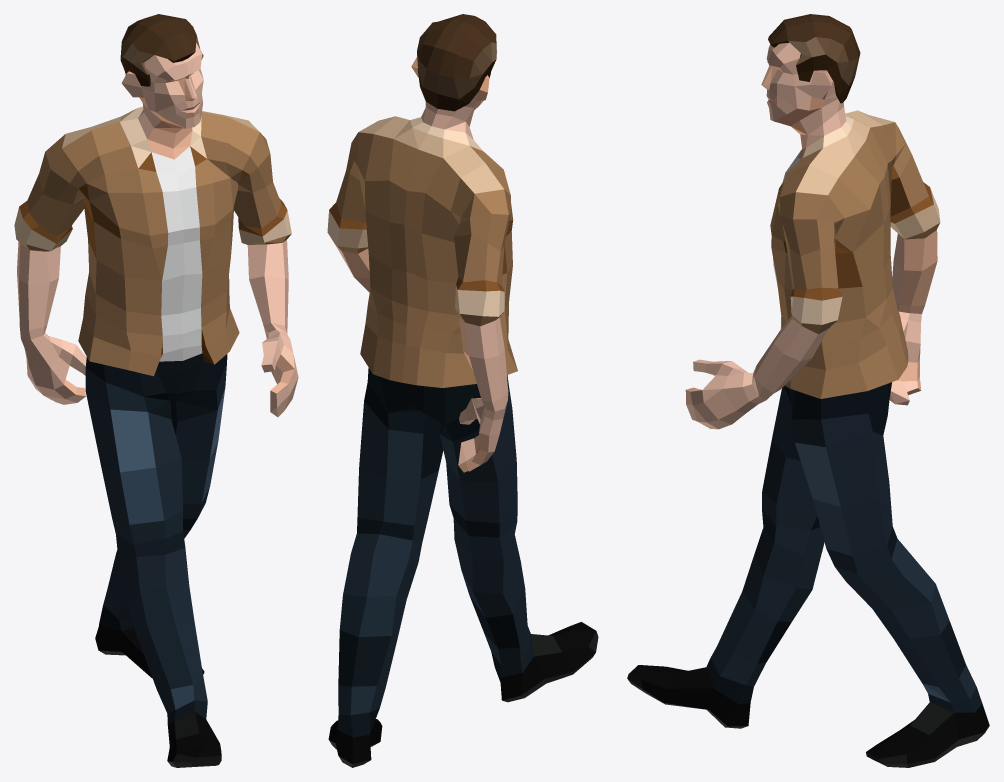
Rendered from zhuren.glb.
The picture shows the model from 3 angles, left to right: view 1: azimuth 30°, elevation 25°; view 2: azimuth 150°, elevation 25°; view 3: azimuth 270°, elevation 25°; orthographic projection.
Visible parts, largest first — view 1: huitugou_2139_331; view 2: huitugou_2139_331; view 3: huitugou_2139_331.
Boxes of the visible parts, x1,y1,x2,y2 form: huitugou_2139_331: (14,14,298,767); huitugou_2139_331: (327,14,598,767); huitugou_2139_331: (627,14,989,767).
Bounding box in the file's own units: 0.5639 × 1.72 × 0.7887.
Materials: 1 (1 with a texture image).
